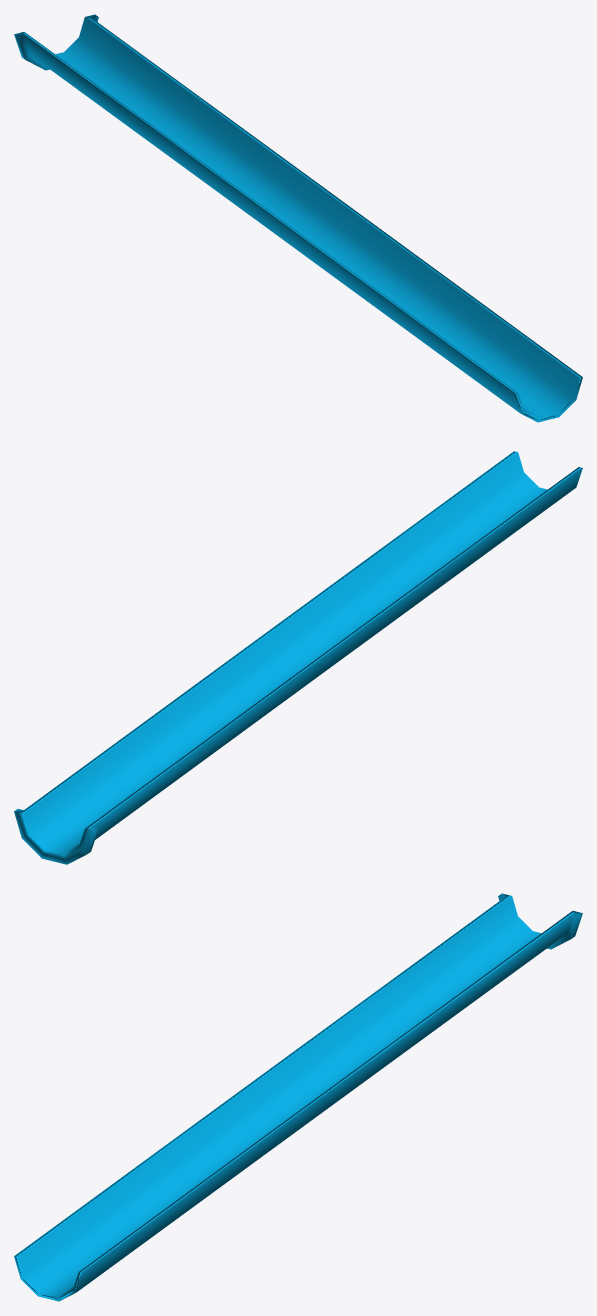
File: Gutter_04.fbx
3 views of the same model, one above another, from view 1: azimuth 30°, elevation 25°; view 2: azimuth 150°, elevation 25°; view 3: azimuth 330°, elevation 25° (orthographic).
Visible parts, largest first — view 1: Gutter_04; view 2: Gutter_04; view 3: Gutter_04.
Part boxes in pixels (box(x1,y1,x2,y2)): Gutter_04: box(14, 14, 582, 422); Gutter_04: box(14, 451, 582, 864); Gutter_04: box(14, 893, 582, 1301).
Bounding box in the file's own units: 14.26 × 6.82 × 150.
